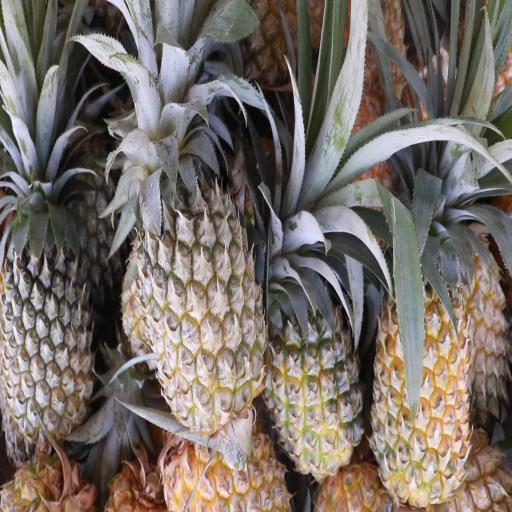------------------------------: (130, 114, 272, 454), (261, 260, 366, 492)
Pineapple - v8 v1: (366, 224, 473, 512)
